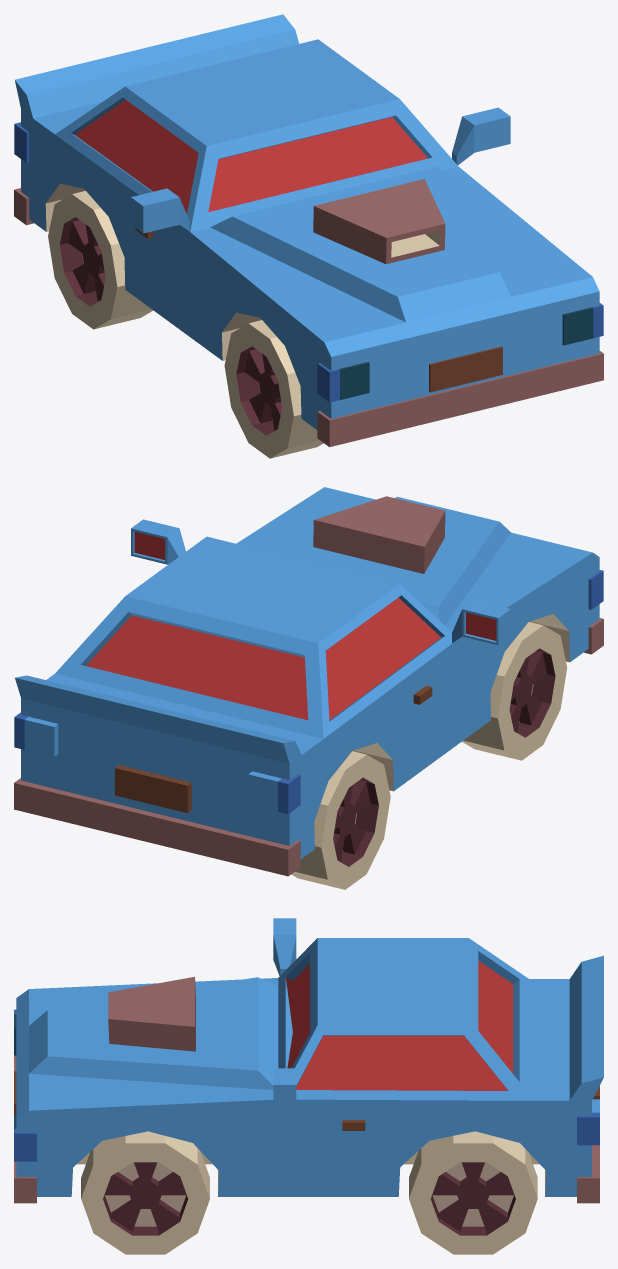
The model's file is car6.obj.
3 renders of one model, top to bottom at view 1: azimuth 30°, elevation 25°; view 2: azimuth 150°, elevation 25°; view 3: azimuth 270°, elevation 25°, orthographic. The views are drawn at different scales.
Parts seen in each view (by area): view 1: Cube.006; view 2: Cube.006; view 3: Cube.006.
Boxes of the visible parts, left/top/right/bottom form: Cube.006: left=14, top=14, right=603, bottom=458; Cube.006: left=14, top=487, right=603, bottom=889; Cube.006: left=14, top=918, right=603, bottom=1254.
Size of the model in its own units: 2.74 by 1.62 by 4.1.
Materials: 1 (1 with a texture image).
